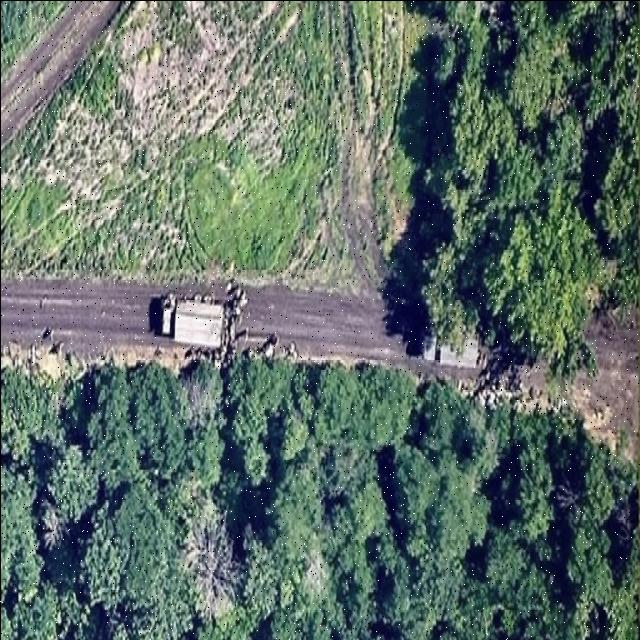TRUCK: (148, 294, 228, 356), (410, 313, 481, 371)
